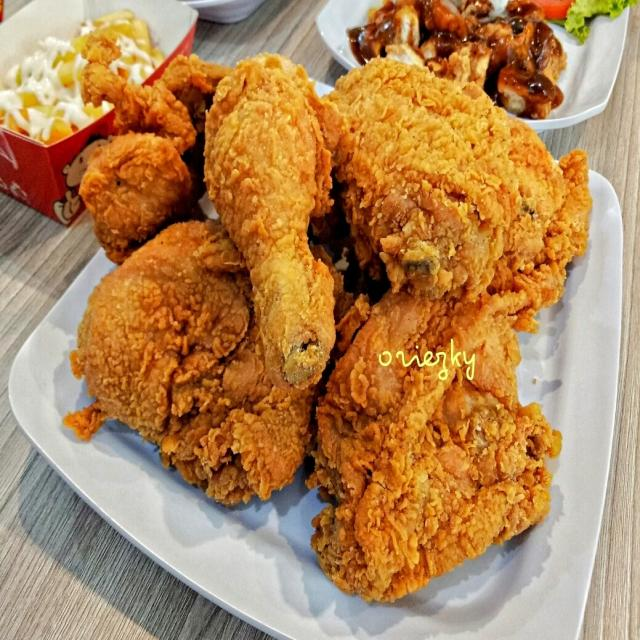Frango: (338, 57, 563, 296), (204, 50, 350, 391)
